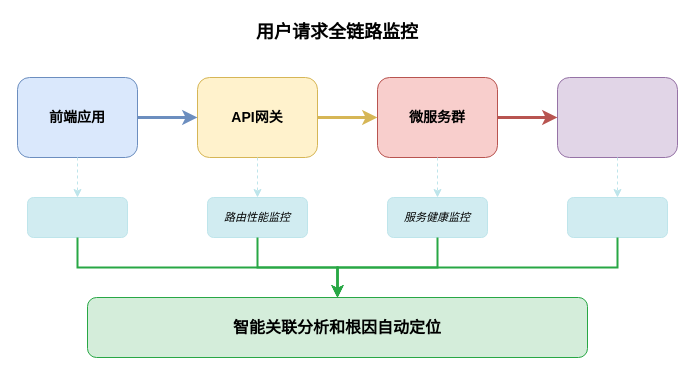
This 695x375 diagram has some shape labels left out. Here are the shapes that lost their labels. From the top down, the centre of each, then its label:
At pixel 617 117: "数据存储".
At pixel 77 217: "用户体验监控".
At pixel 617 217: "存储性能监控".
